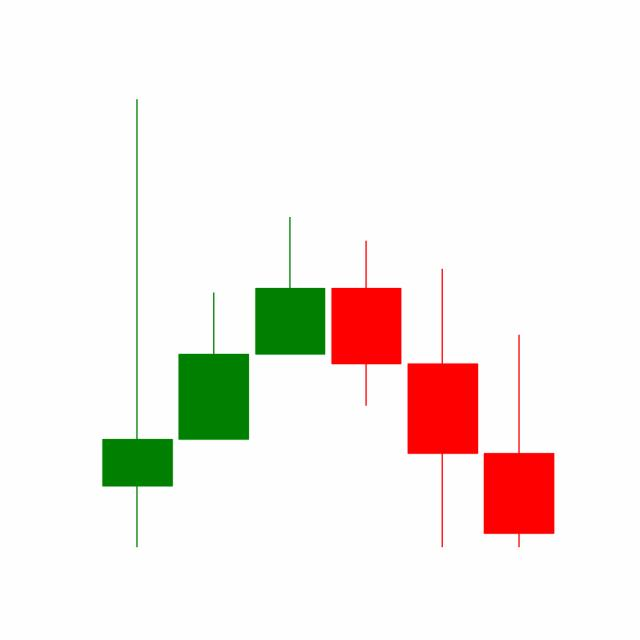Spinning Top: (403, 265, 481, 550)
